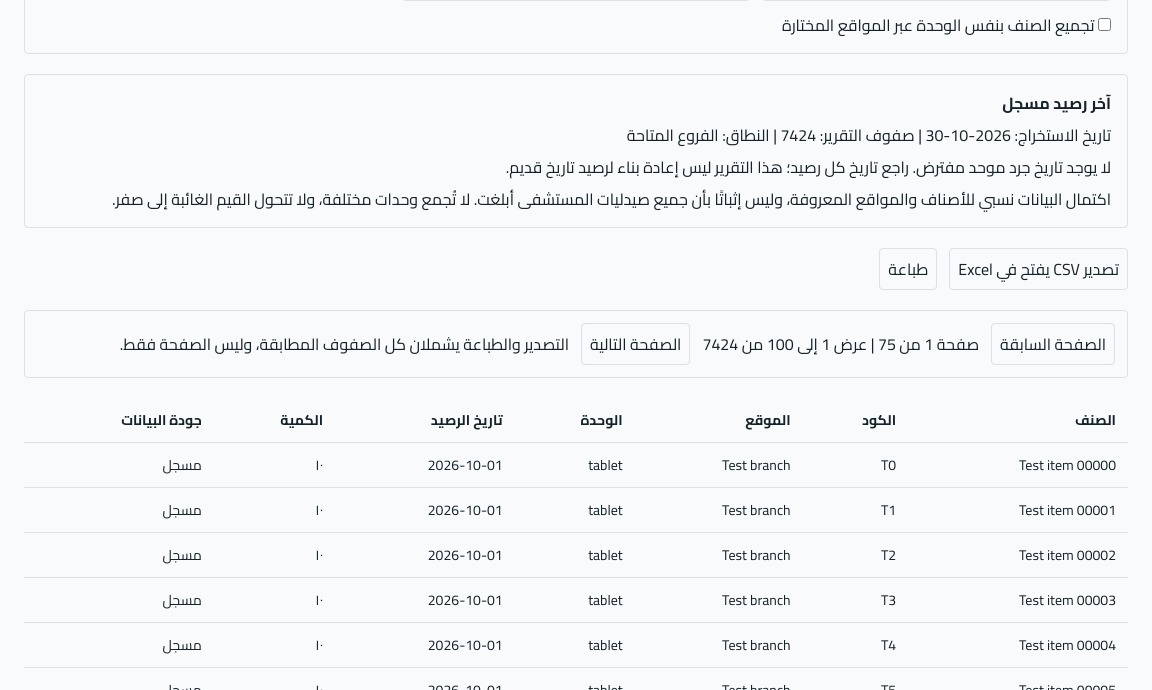
Test: bounds a 7,424-row report to 100 visible rows and resets paging on search
The image size is (1152, 690).
(page scrolled)
Click the button "الصفحة التالية" at (636, 344), box [581, 323, 690, 365]
(page scrolled)
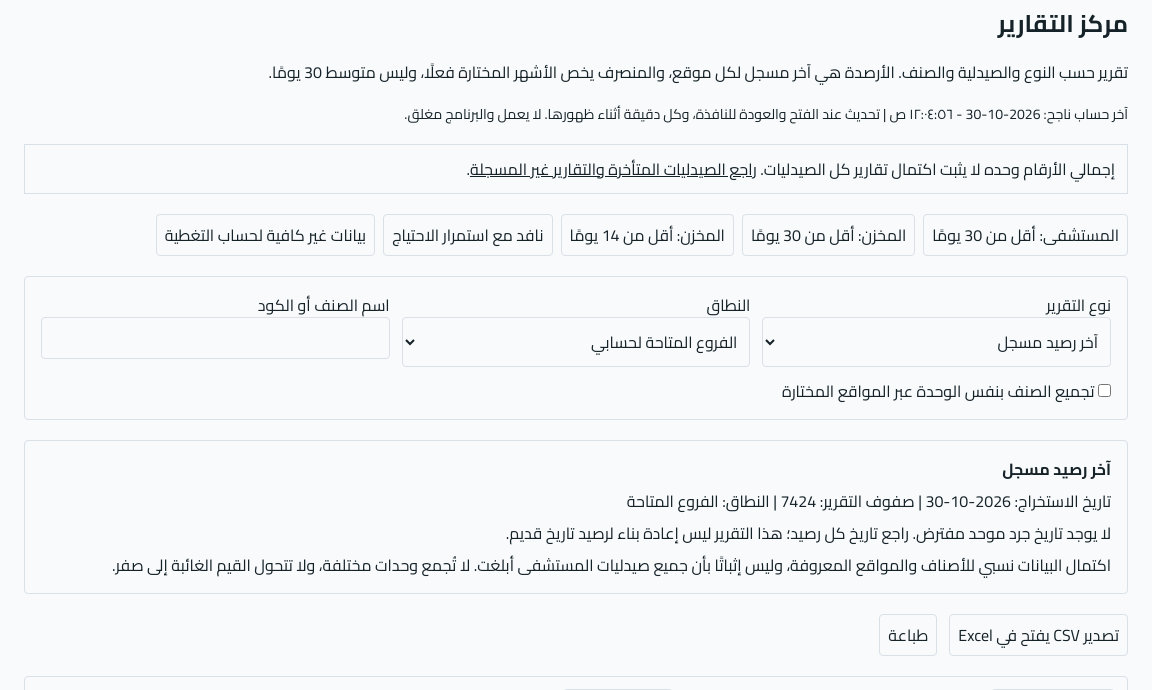
Type "Test item 07423" into the field labelled "اسم الصنف أو الكود" at (215, 338), box [41, 317, 390, 359]
(page scrolled)
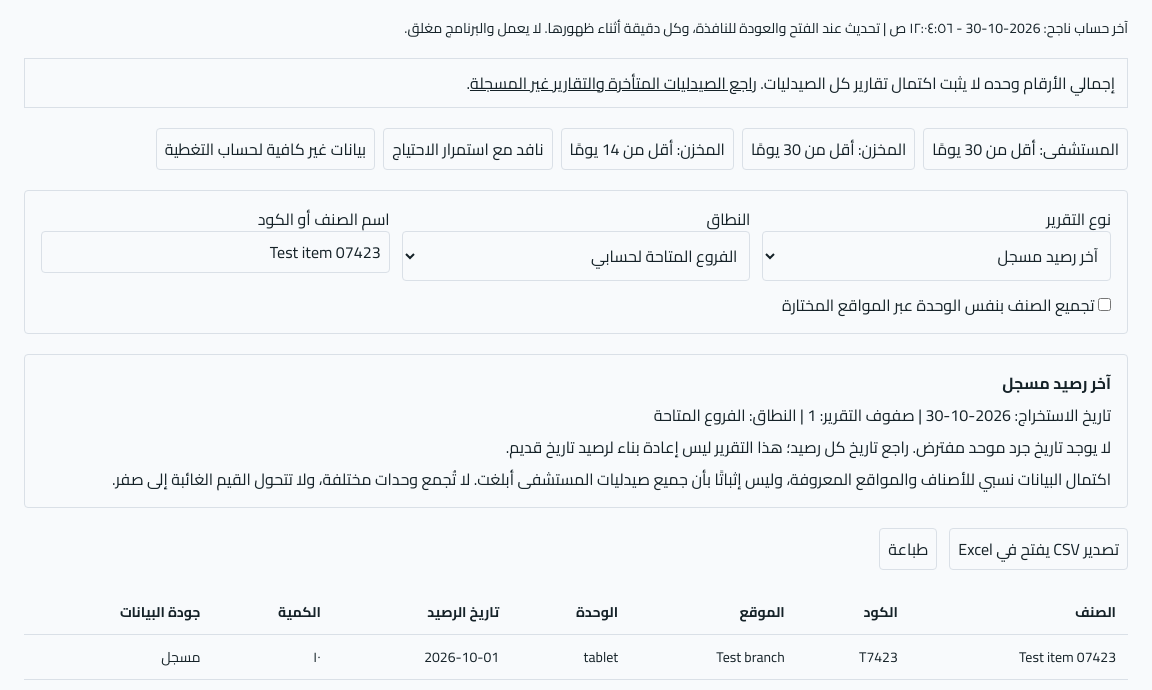
Expected: the text "Test item 07423" is shown, [910, 634, 1128, 680]
Expected: the number of rows is 2, [24, 590, 1128, 634]; [24, 634, 1128, 680]
